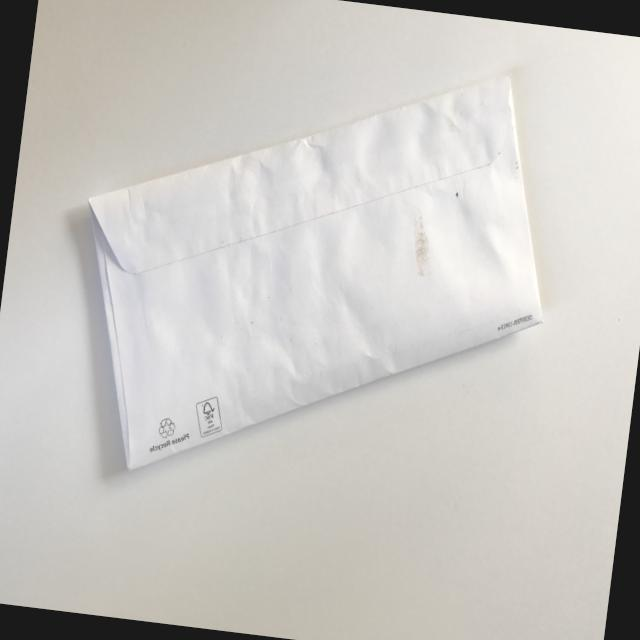Paper: (50, 24, 575, 524)
